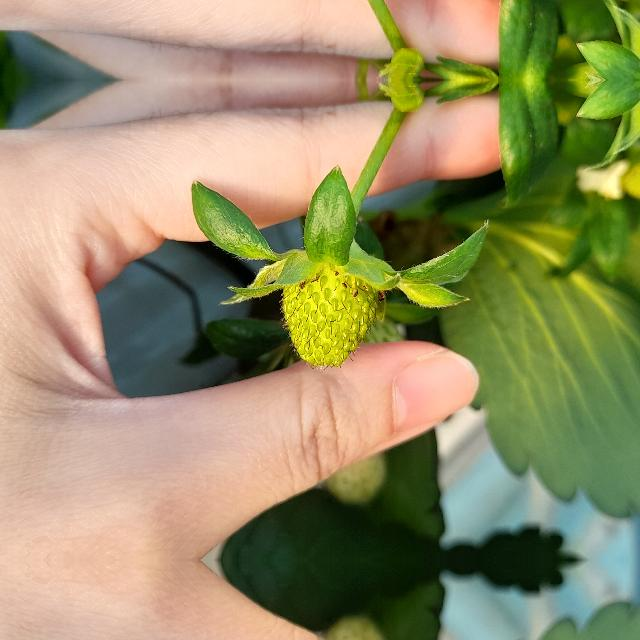Health_25: (280, 262, 380, 370)
